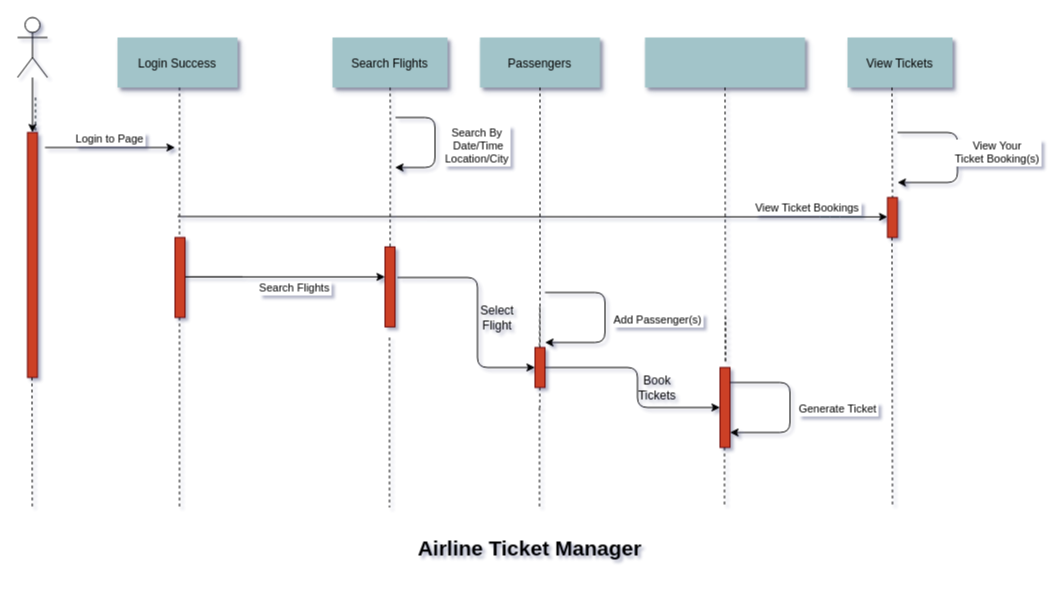
This 1064x601 diagram has some shape labels left out. Each missing label, with the centre of its shape:
"Ticket" goes at [725,63].
"User" goes at [32,47].
